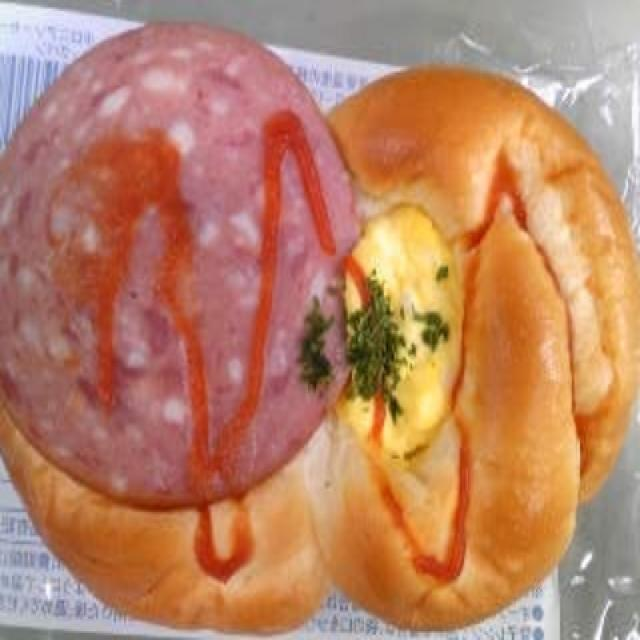三明治: (8, 53, 601, 626)
